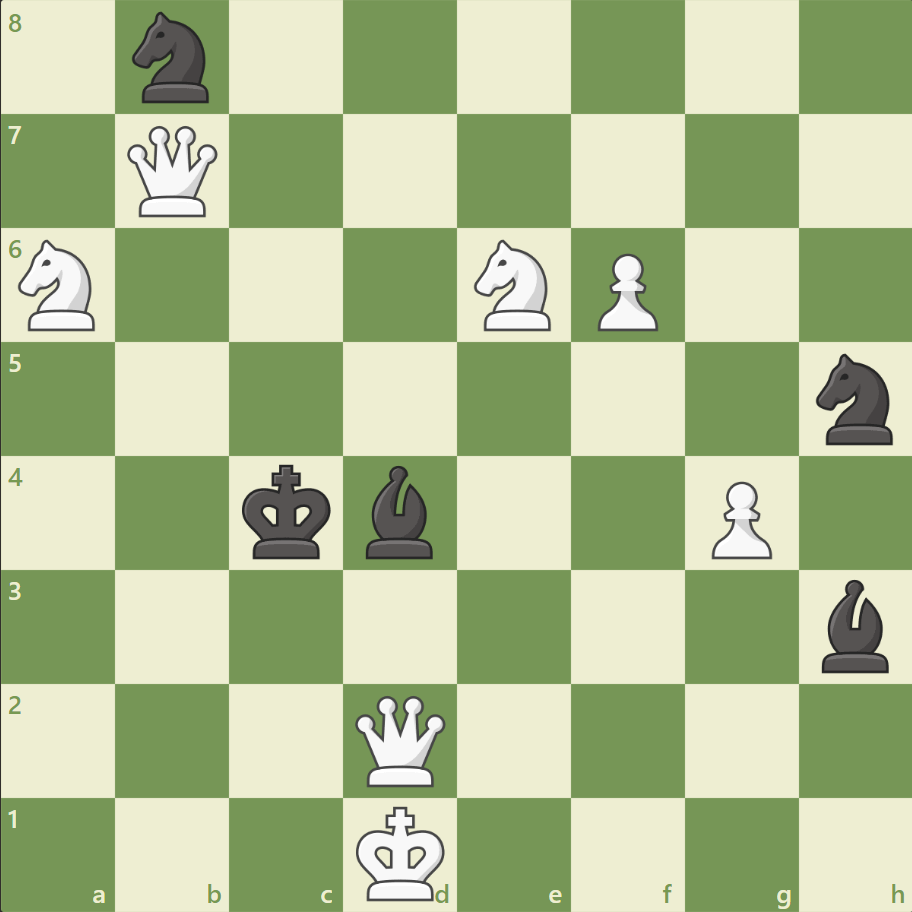K: (351, 798, 451, 906)
N: (11, 234, 108, 337), (465, 234, 562, 337)
P: (701, 473, 776, 564), (588, 246, 662, 337)
Q: (124, 122, 223, 222), (351, 690, 450, 789)
b: (358, 460, 442, 563), (812, 574, 896, 676)
k: (238, 458, 338, 566)
n: (124, 7, 222, 110), (806, 348, 903, 450)
